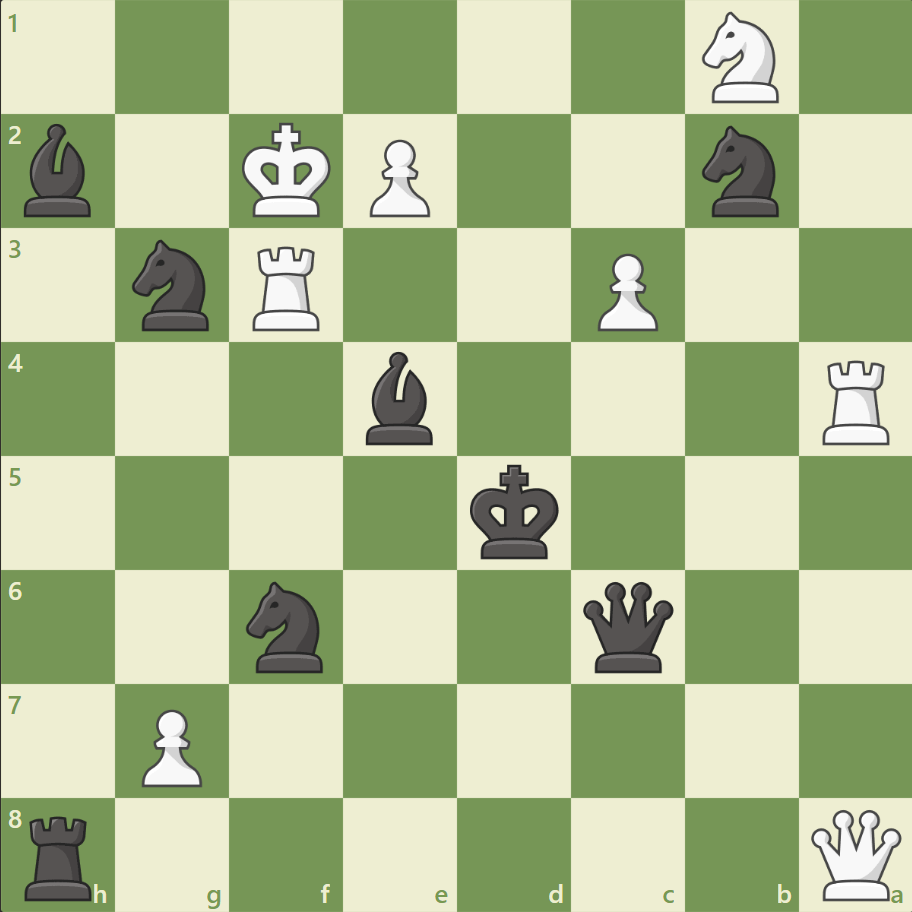K: (238, 117, 338, 225)
N: (692, 7, 789, 110)
P: (133, 700, 208, 791), (588, 246, 662, 337), (361, 132, 435, 223)
Q: (805, 804, 904, 903)
R: (814, 352, 897, 449), (246, 239, 329, 336)
b: (358, 347, 442, 449), (17, 120, 101, 222)
k: (465, 458, 565, 566)
n: (124, 234, 222, 337), (238, 575, 335, 677), (692, 121, 789, 223)
q: (578, 576, 677, 676)
r: (19, 806, 102, 904)
